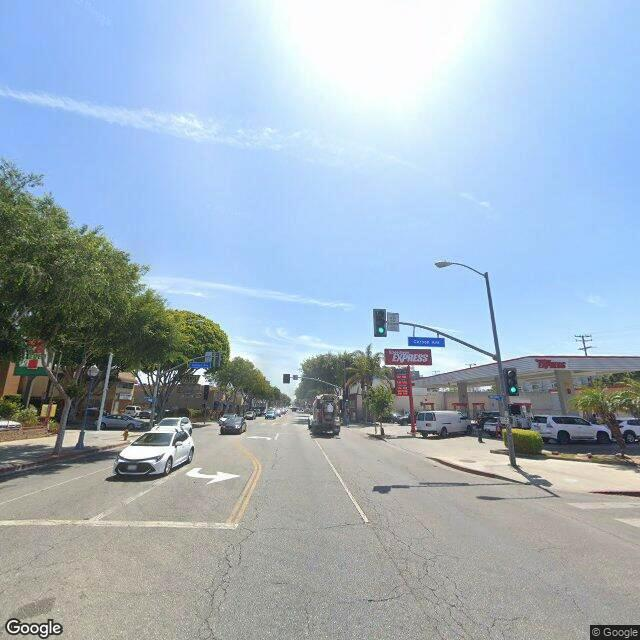crack: (340, 479, 518, 639), (186, 520, 260, 638), (253, 517, 365, 535)
